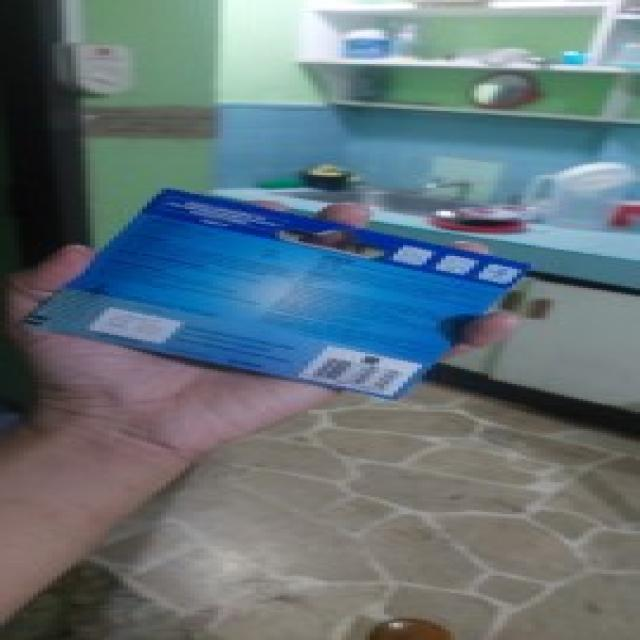Cacat: (15, 188, 540, 400)
